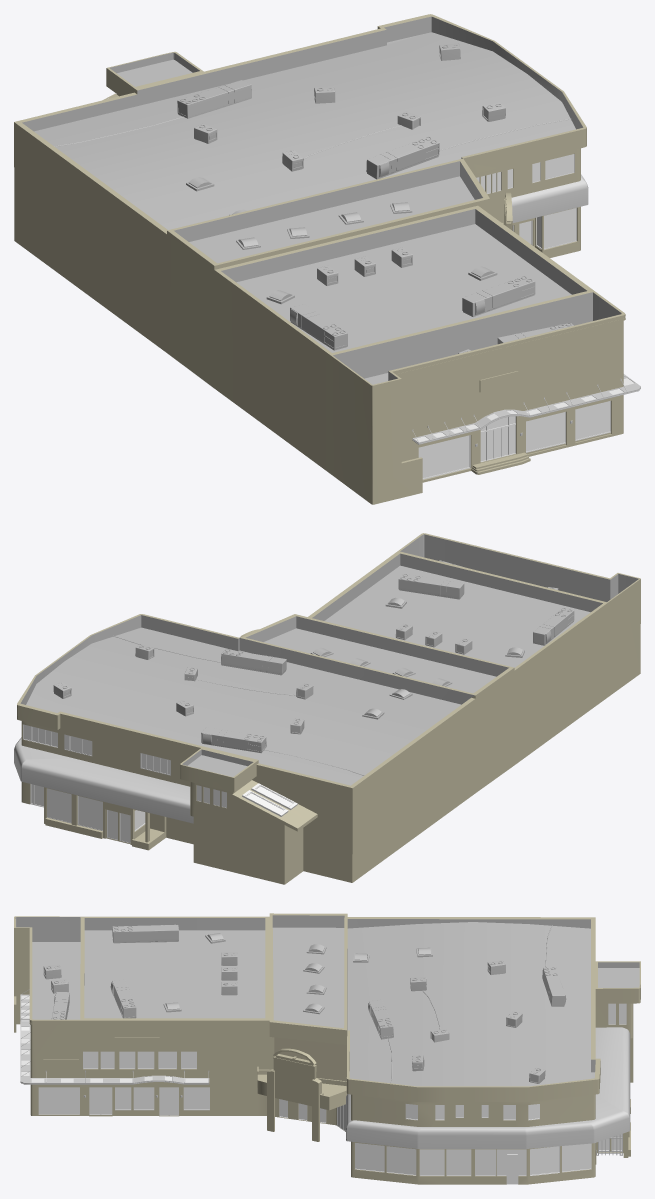
The model's file is Factory.fbx.
3 views of the same model, one above another, from view 1: azimuth 30°, elevation 25°; view 2: azimuth 150°, elevation 25°; view 3: azimuth 270°, elevation 25° (orthographic). The views are drawn at different scales.
Parts seen in each view (by area): view 1: Factory_LOD0; view 2: Factory_LOD0; view 3: Factory_LOD0.
Boxes of the visible parts, <box> form: Factory_LOD0: <box>14,14,640,504</box>; Factory_LOD0: <box>14,533,640,884</box>; Factory_LOD0: <box>14,913,640,1184</box>.
Size of what is drawn, in the model's own units: 4744 by 1293 by 7211.
